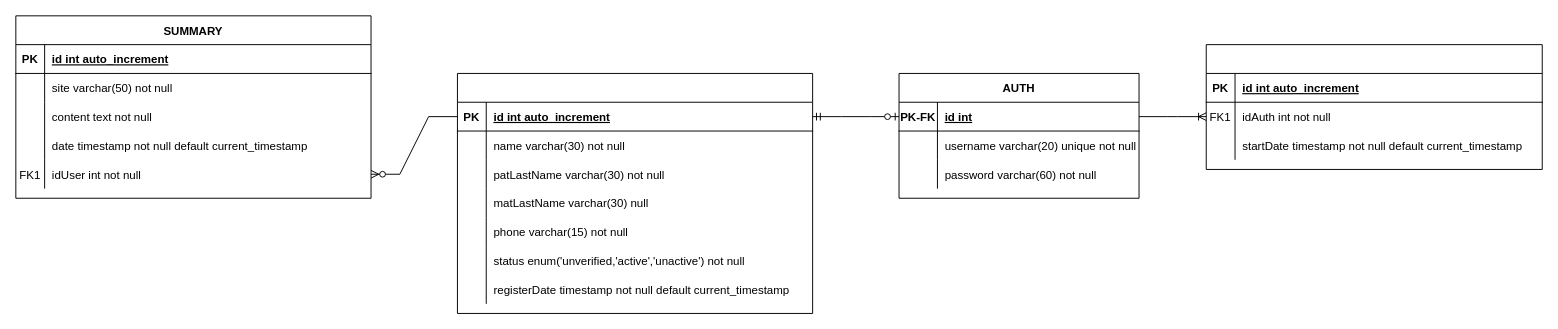
The diagram is 1558 pixels wide and 329 high, and some of its shapes have lost their labels. The shapes that lost their labels are listed below. From the top down, each one's box as (x1, y1, x2, y2) in pixels, then its label:
(1205, 44, 1542, 169): SESSION
(456, 72, 813, 313): USER
